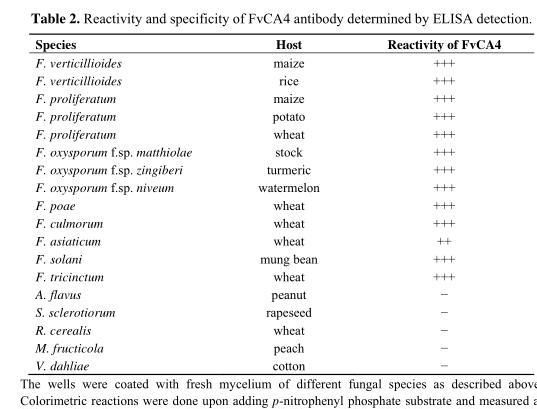table: (34, 34, 500, 372)
table column: (34, 34, 224, 372), (352, 34, 500, 372), (224, 34, 352, 372)
table column header: (34, 34, 500, 53)
table row: (34, 34, 500, 53), (34, 70, 500, 88), (34, 88, 500, 106), (34, 106, 500, 124), (34, 124, 500, 142), (34, 159, 500, 177), (34, 177, 500, 195), (34, 195, 500, 213), (34, 213, 500, 231), (34, 231, 500, 249), (34, 266, 500, 284), (34, 284, 500, 302), (34, 302, 500, 320), (34, 320, 500, 338), (34, 53, 500, 70), (34, 142, 500, 159), (34, 249, 500, 266), (34, 338, 500, 355), (34, 355, 500, 372)
